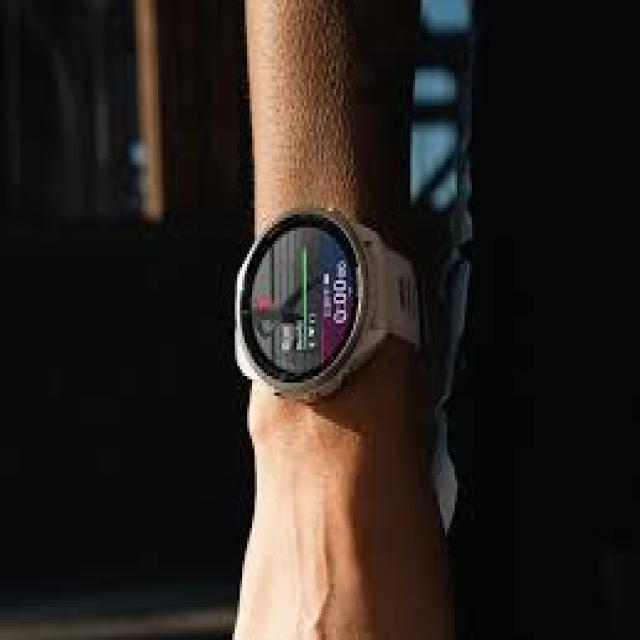objects: (230, 203, 424, 402)
